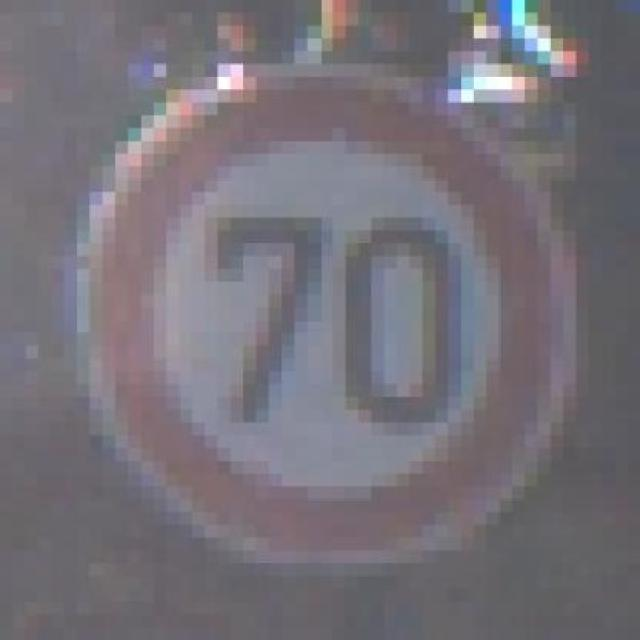forb_speed_over_70: (96, 73, 558, 558)
